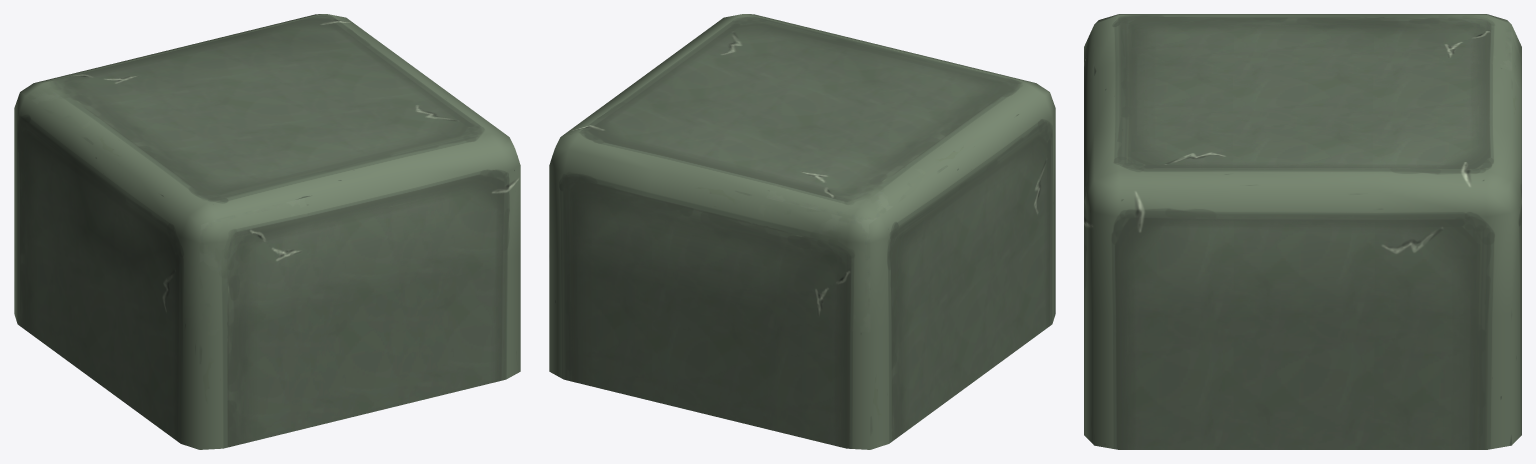
Rendered from PlatformTest.fbx.
3 renders of one model, left to right at view 1: azimuth 30°, elevation 25°; view 2: azimuth 150°, elevation 25°; view 3: azimuth 270°, elevation 25°, orthographic. The views are drawn at different scales.
Parts seen in each view (by area): view 1: Platform.006, Platform.008, Platform.004, Platform.005, Platform.016, Platform.002, Platform.012, Platform.003, Platform.001, Platform, Platform.010, Platform.014 (+2 smaller); view 2: Platform.012, Platform.010, Platform.015, Platform.013, Platform.016, Platform.007, Platform.006, Platform.009, Platform.001, Platform, Platform.008, Platform.014 (+2 smaller); view 3: Platform.014, Platform.005, Platform.013, Platform.011, Platform.003, Platform.009, Platform.004, Platform.015, Platform, Platform.006, Platform.012, Platform.016.
Part boxes in pixels (box(x1,y1,x2,y2)): Platform.006: box(131, 145, 308, 332); Platform.008: box(131, 291, 308, 449); Platform.004: box(244, 118, 420, 310); Platform.005: box(356, 97, 520, 282); Platform.016: box(66, 98, 243, 289); Platform.002: box(308, 283, 420, 427); Platform.012: box(14, 62, 178, 242); Platform.003: box(420, 254, 520, 400); Platform.001: box(66, 243, 131, 407); Platform: box(179, 71, 355, 145); Platform.010: box(14, 197, 66, 359); Platform.014: box(291, 50, 459, 117); Platform.012: box(761, 145, 938, 332); Platform.010: box(761, 291, 938, 449); Platform.015: box(649, 118, 825, 310); Platform.013: box(549, 97, 713, 282); Platform.016: box(826, 98, 1003, 289); Platform.007: box(649, 283, 761, 427); Platform.006: box(891, 62, 1055, 242); Platform.009: box(549, 254, 649, 400); Platform.001: box(938, 243, 1003, 407); Platform: box(714, 71, 890, 145); Platform.008: box(1003, 197, 1055, 359); Platform.014: box(610, 50, 778, 117); Platform.014: box(1230, 123, 1375, 317); Platform.005: box(1084, 123, 1229, 317); Platform.013: box(1376, 123, 1521, 317); Platform.011: box(1230, 317, 1375, 449); Platform.003: box(1084, 303, 1229, 449); Platform.009: box(1376, 303, 1521, 449); Platform.004: box(1084, 62, 1229, 154); Platform.015: box(1376, 62, 1521, 154); Platform: box(1230, 62, 1375, 123); Platform.006: box(1084, 14, 1229, 93); Platform.012: box(1376, 14, 1521, 93); Platform.016: box(1230, 14, 1375, 61).
Size of the model in its own units: 620 by 414 by 620.
